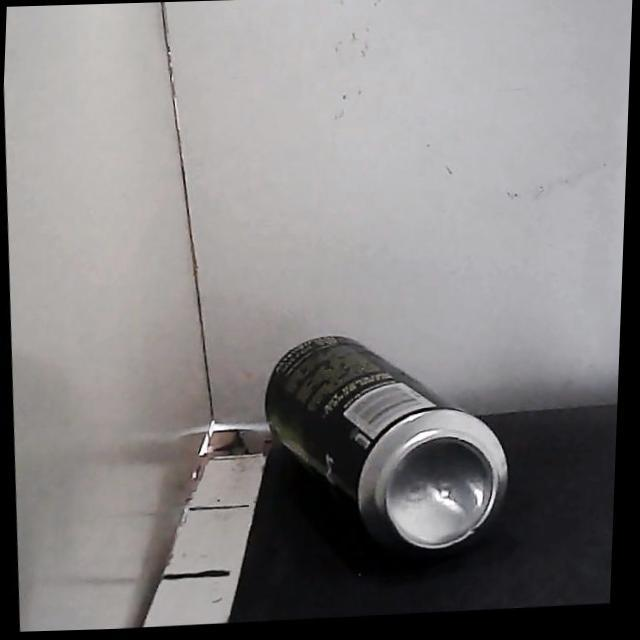metal: (266, 336, 507, 552)
